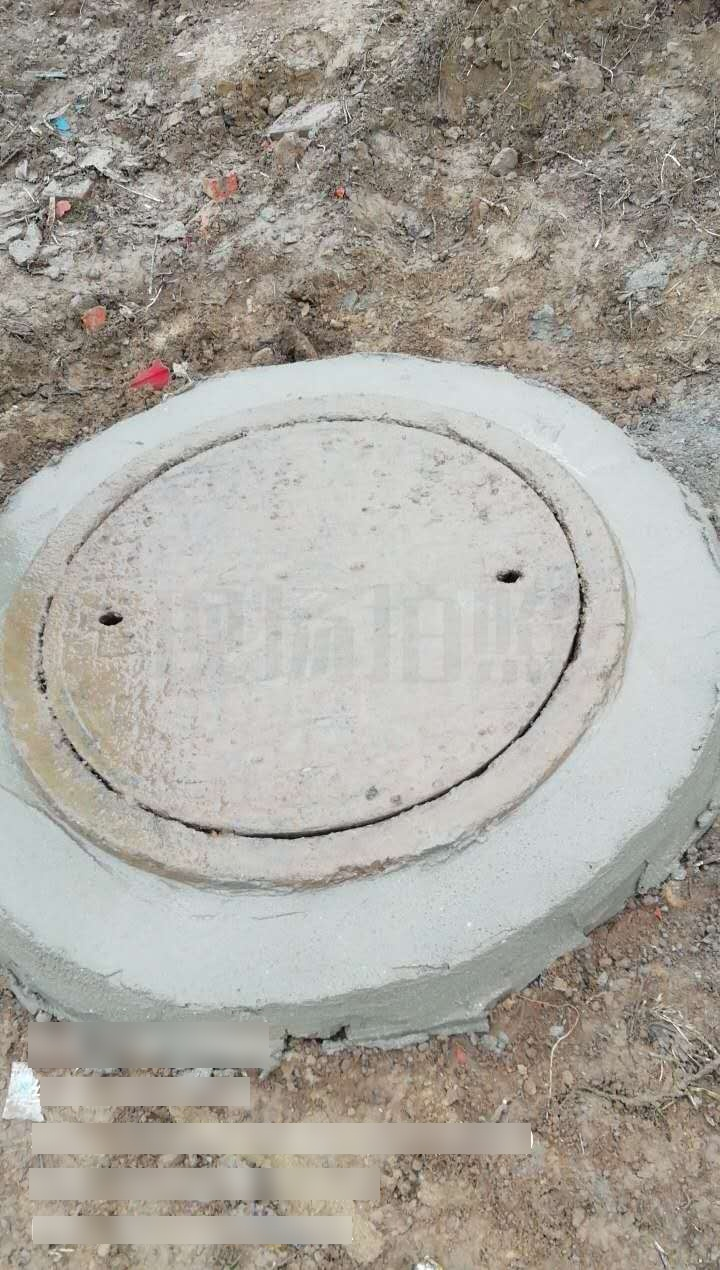good: (1, 393, 625, 889)
